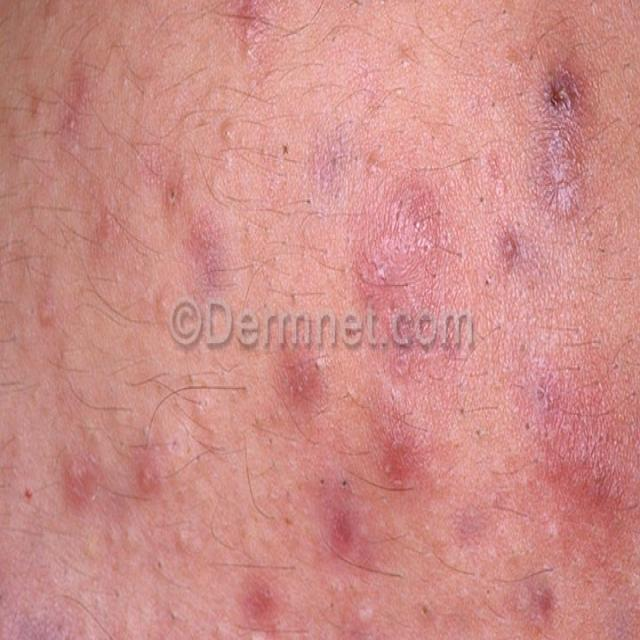Acne: (533, 355, 640, 514), (354, 175, 446, 308), (536, 125, 585, 225), (374, 401, 421, 485), (275, 342, 331, 411), (358, 228, 407, 305), (538, 57, 590, 121), (58, 440, 99, 517), (229, 0, 278, 64), (126, 438, 166, 514), (236, 568, 282, 630), (505, 574, 557, 626), (525, 366, 567, 428), (158, 166, 189, 224), (492, 219, 523, 269)
